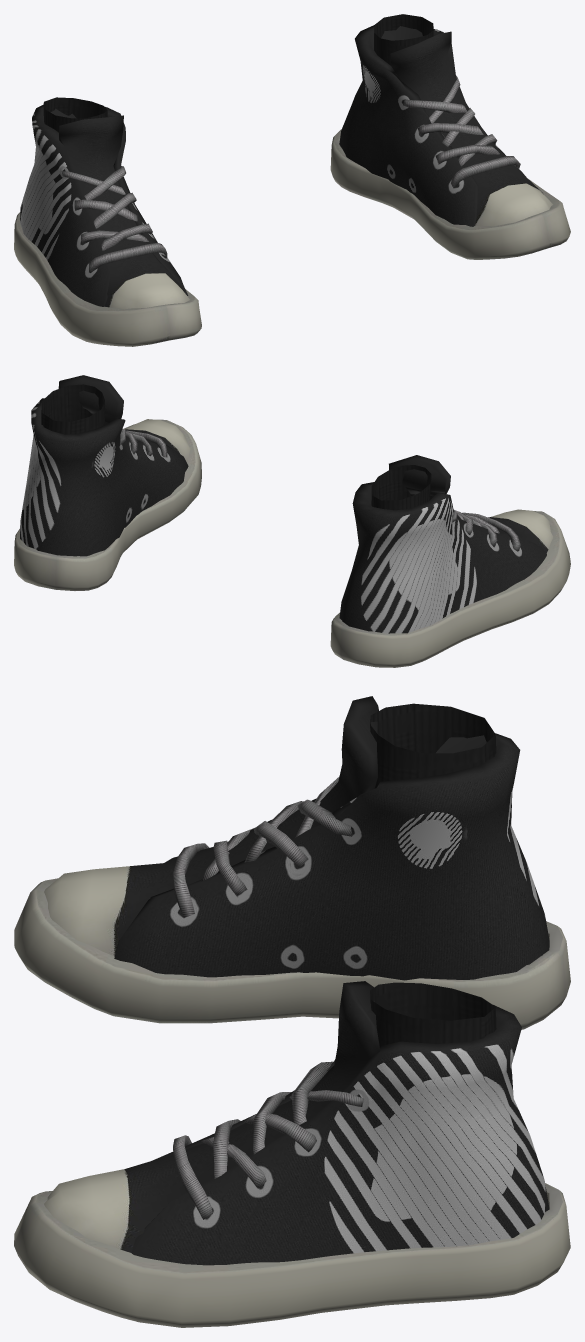
File: v3_phr_female_UA_shoes_sneakers_converse_black.glb
3 views of the same model, one above another, from view 1: azimuth 30°, elevation 25°; view 2: azimuth 150°, elevation 25°; view 3: azimuth 270°, elevation 25° (orthographic). The views are drawn at different scales.
Parts seen in each view (by area): view 1: UnionAvatars_Shoes; view 2: UnionAvatars_Shoes; view 3: UnionAvatars_Shoes.
Part boxes in pixels (x1,y1,x2,y2): UnionAvatars_Shoes: [14, 14, 570, 346]; UnionAvatars_Shoes: [14, 375, 570, 667]; UnionAvatars_Shoes: [14, 696, 570, 1327].
Bounding box in the file's own units: 0.468 × 0.1567 × 0.2765.
1 material, 1 textured.
